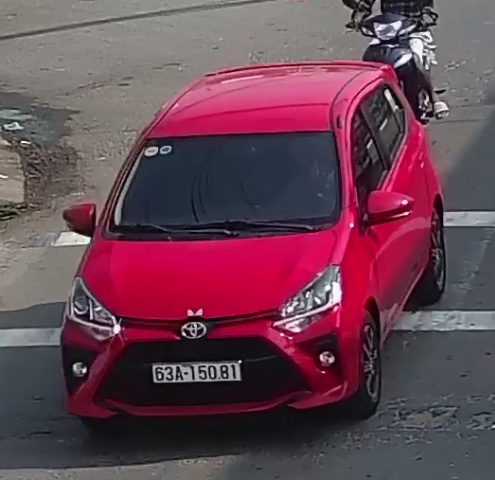vehicle plate: (145, 354, 247, 387)
